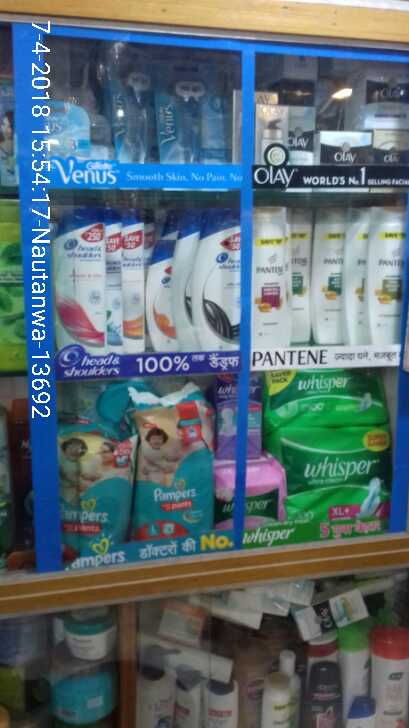venus: (162, 60, 222, 163), (108, 47, 158, 163), (54, 101, 88, 158)
